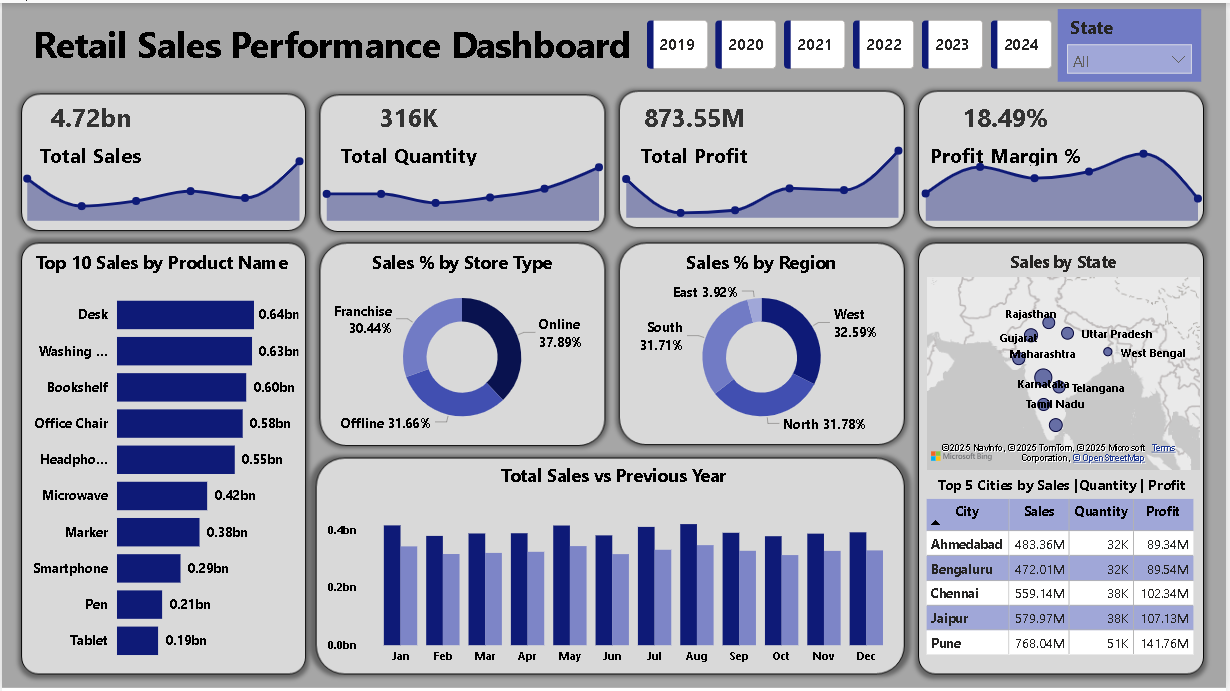

What the dashboard file says about the page in this screenshot:
{"tool":"powerbi","page":{"name":"Sales Dashboard","canvas":[1280,720],"ordinal":0},"visuals":[{"type":"textbox","box":[20.6,12.7,648.7,61.7],"z":0},{"type":"advancedSlicerVisual","fields":{"Values":["Calender Table.Year"]},"box":[669.2,12.7,438.2,61.7],"z":1000},{"type":"card","fields":{"Values":["1_Measures.Total Sales"]},"box":[33.2,94.9,118.7,80.7],"z":2000},{"type":"card","fields":{"Values":["1_Measures.Total Quantity"]},"box":[344.9,94.9,161.4,80.7],"z":3000},{"type":"areaChart","fields":{"Y":["1_Measures.Total Sales"],"Category":["Calender Table.Year"]},"box":[11.1,139.2,314.8,93.3],"z":4000},{"type":"card","fields":{"Values":["1_Measures.Total Profit"]},"box":[650.2,94.9,147.1,80.7],"z":5000},{"type":"card","fields":{"Values":["1_Measures.Profit Margin %"]},"box":[965.1,94.9,167.7,80.7],"z":6000},{"type":"areaChart","fields":{"Category":["Calender Table.Year"],"Y":["1_Measures.Total Quantity"]},"box":[324.3,139.2,314.8,93.3],"z":7000},{"type":"areaChart","fields":{"Category":["Calender Table.Year"],"Y":["1_Measures.Total Profit"]},"box":[637.6,136.1,314.8,93.3],"z":8000},{"type":"areaChart","fields":{"Category":["Calender Table.Year"],"Y":["1_Measures.Profit Margin %"]},"box":[950.8,139.2,314.8,93.3],"z":9000},{"type":"barChart","title":"Top 10 Sales by Product Name","fields":{"Y":["1_Measures.Total Sales"],"Category":["DimProduct.ProductName"]},"box":[19,257.9,295.9,444.6],"z":10000},{"type":"donutChart","title":"Sales % by Store Type","fields":{"Category":["DimStore.StoreType"],"Y":["1_Measures.Total Sales"]},"box":[340.1,257.9,281.6,199.3],"z":11000},{"type":"donutChart","title":"Sales % by Region","fields":{"Y":["1_Measures.Total Sales"],"Category":["DimStore.Region"]},"box":[653.4,257.9,281.6,199.3],"z":12000},{"type":"clusteredColumnChart","title":"Total Sales vs Previous Year","fields":{"Y":["1_Measures.Total Sales","1_Measures.PY sales"],"Category":["Calender Table.Month Name"]},"box":[335.4,481,609.1,221.5],"z":13000},{"type":"map","title":"Sales by State","fields":{"Category":["DimStore.State"],"Size":["1_Measures.Total Sales"]},"box":[961.9,257.9,295.9,235.7],"z":14000},{"type":"pivotTable","title":"Top 5 Cities by Sales |Quantity | Profit","fields":{"Rows":["DimStore.City"],"Values":["1_Measures.Total Sales","1_Measures.Total Quantity","1_Measures.Total Profit"]},"box":[961.9,493.6,292.7,208.8],"z":15000},{"type":"slicer","fields":{"Values":["DimCustomer.State"]},"box":[1104.3,6.3,150.3,75.9],"z":16000}]}

Visuals, with their boxes in screenshot pixels (x1, y1, x2, y2), scaled from the page's 1280x720 canvas onto the 1230x691 screenshot:
textbox: (left=20, top=12, right=643, bottom=71)
advancedSlicerVisual - Calender Table.Year: (left=643, top=12, right=1064, bottom=71)
card - 1_Measures.Total Sales: (left=32, top=91, right=146, bottom=169)
card - 1_Measures.Total Quantity: (left=331, top=91, right=487, bottom=169)
areaChart - 1_Measures.Total Sales x Calender Table.Year: (left=11, top=134, right=313, bottom=223)
card - 1_Measures.Total Profit: (left=625, top=91, right=766, bottom=169)
card - 1_Measures.Profit Margin %: (left=927, top=91, right=1089, bottom=169)
areaChart - Calender Table.Year x 1_Measures.Total Quantity: (left=312, top=134, right=614, bottom=223)
areaChart - Calender Table.Year x 1_Measures.Total Profit: (left=613, top=131, right=915, bottom=220)
areaChart - Calender Table.Year x 1_Measures.Profit Margin %: (left=914, top=134, right=1216, bottom=223)
"Top 10 Sales by Product Name" barChart: (left=18, top=248, right=303, bottom=674)
"Sales % by Store Type" donutChart: (left=327, top=248, right=597, bottom=439)
"Sales % by Region" donutChart: (left=628, top=248, right=898, bottom=439)
"Total Sales vs Previous Year" clusteredColumnChart: (left=322, top=462, right=908, bottom=674)
"Sales by State" map: (left=924, top=248, right=1209, bottom=474)
"Top 5 Cities by Sales |Quantity | Profit" pivotTable: (left=924, top=474, right=1206, bottom=674)
slicer - DimCustomer.State: (left=1061, top=6, right=1206, bottom=79)
